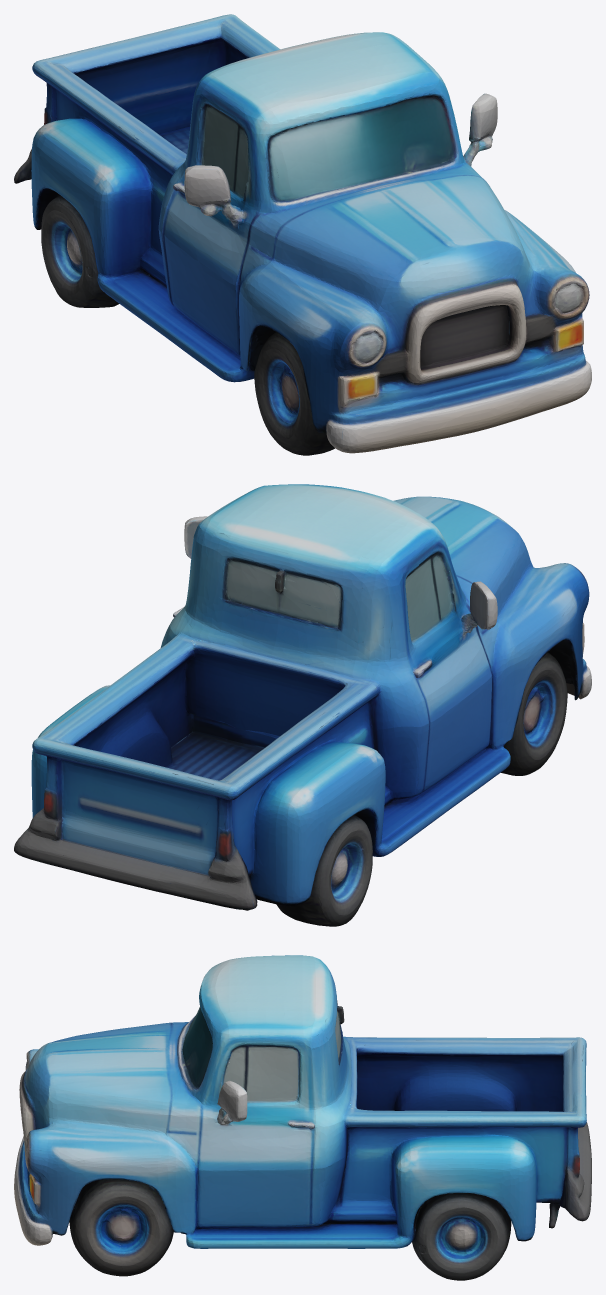
File: car4.glb
3 views of the same model, one above another, from view 1: azimuth 30°, elevation 25°; view 2: azimuth 150°, elevation 25°; view 3: azimuth 270°, elevation 25° (orthographic). The views are drawn at different scales.
Parts seen in each view (by area): view 1: world; view 2: world; view 3: world.
Boxes of the visible parts, x1,y1,x2,y2 form: world: [14, 14, 591, 455]; world: [14, 484, 591, 926]; world: [14, 955, 591, 1280].
Size of the model in its own units: 0.5171 by 0.4638 by 1.
1 material, 1 textured.
